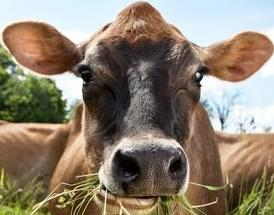muzzles: (98, 139, 191, 203)
